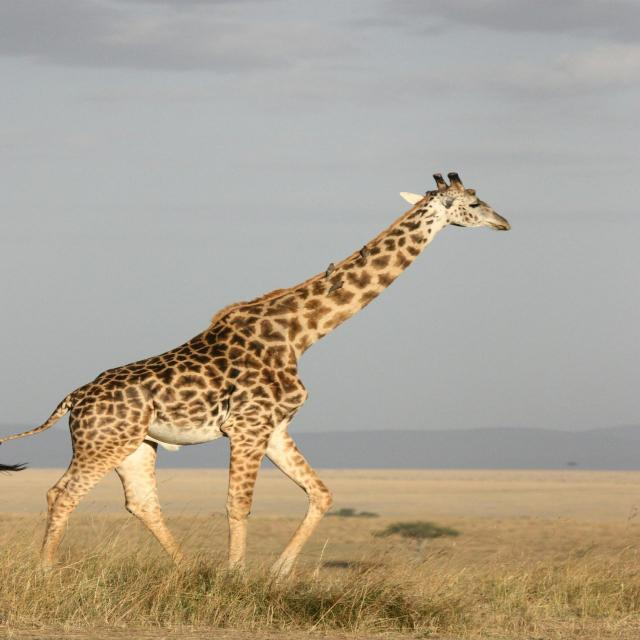Giraffe: (0, 172, 511, 577)
